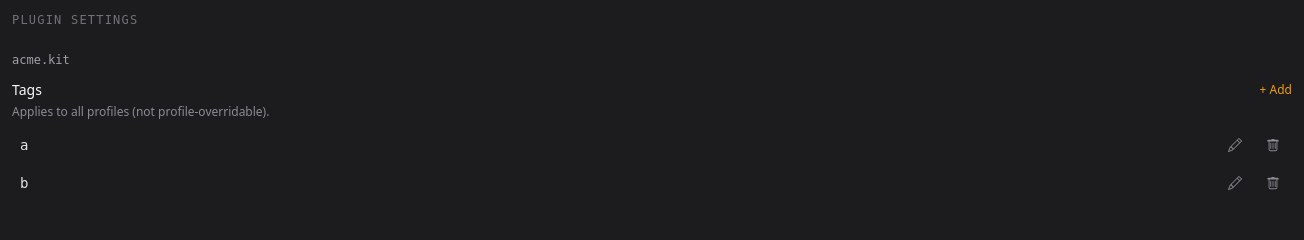
Test case: plugin list editing through the settings store › shows the saved list again when the server rejects the save
Check: the text "a" is shown, box [20,135,28,155]
Click the button titled "Remove " at {"x": 1273, "y": 145}, box [1258,130,1288,160]
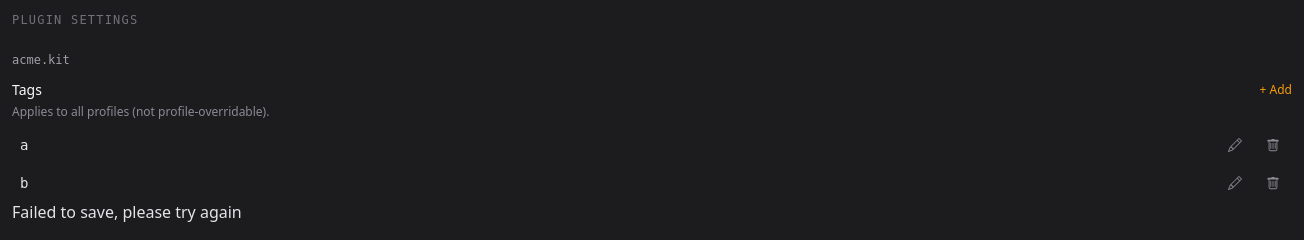
Check: the text "a" is shown, box [20,135,28,155]
Check: the message shows "Failed to save", box [12,201,242,223]
